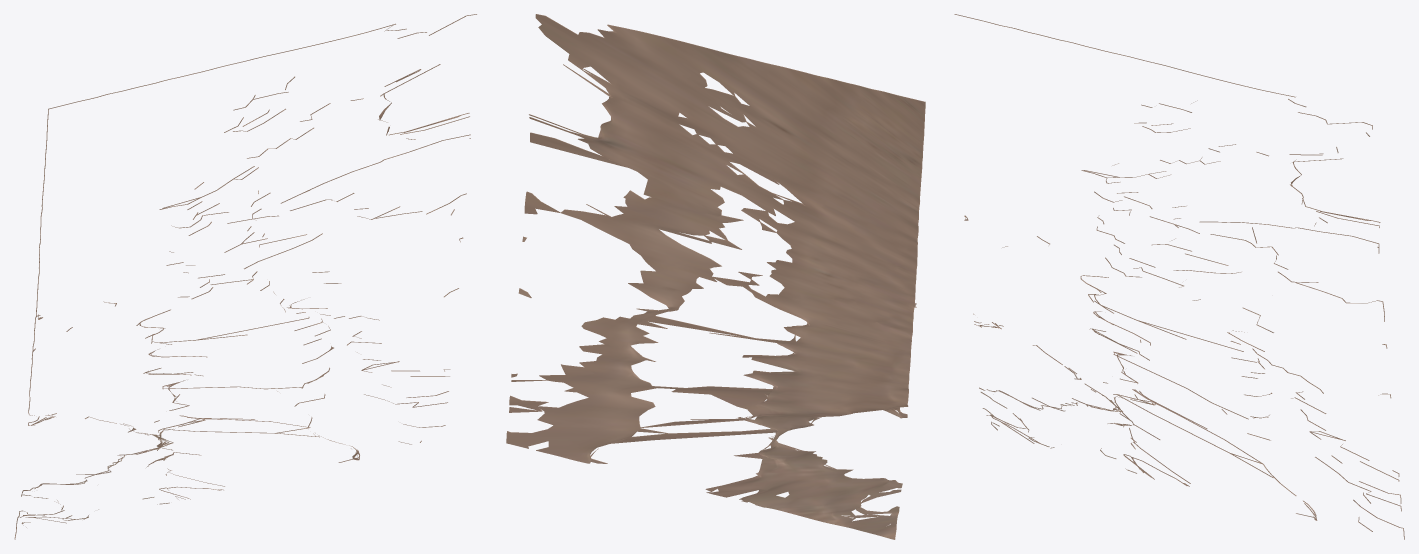
3 views of the same model, side by side, from view 1: azimuth 30°, elevation 25°; view 2: azimuth 150°, elevation 25°; view 3: azimuth 330°, elevation 25° (orthographic). The views are drawn at different scales.
Size of the model in its own units: 27.37 by 27.83 by 3.93.
Materials: 1 (1 with a texture image).
